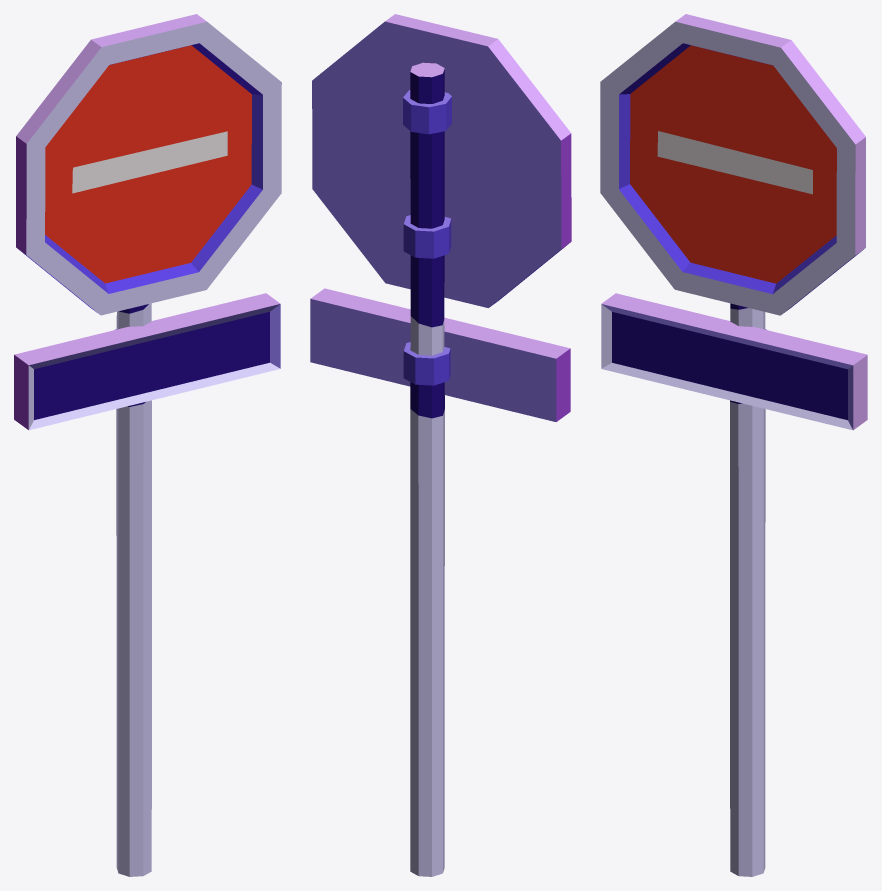
The model's file is 3D_wpn_signalisation.fbx.
The picture shows the model from 3 angles, left to right: view 1: azimuth 30°, elevation 25°; view 2: azimuth 150°, elevation 25°; view 3: azimuth 330°, elevation 25°; orthographic projection. The views are drawn at different scales.
Parts seen in each view (by area): view 1: GEO_signalisation; view 2: GEO_signalisation; view 3: GEO_signalisation.
Boxes of the visible parts, left/top/right/bottom form: GEO_signalisation: left=14, top=14, right=281, bottom=876; GEO_signalisation: left=310, top=14, right=571, bottom=876; GEO_signalisation: left=600, top=14, right=867, bottom=876.
Bounding box in the file's own units: 0.3775 × 0.0849 × 1.2.
